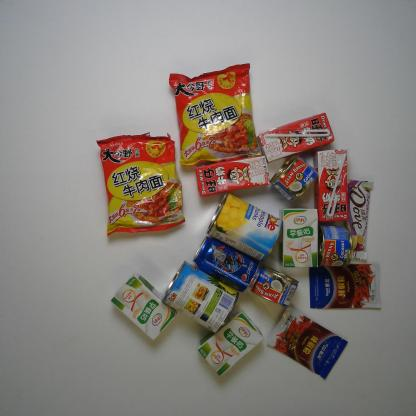Canned Food: (161, 263, 245, 339), (207, 189, 286, 267), (272, 145, 319, 203), (250, 259, 302, 308), (319, 222, 361, 271)
Chocolate: (346, 173, 379, 269)
Drink: (192, 236, 277, 293)
Instant Noodles: (89, 124, 190, 247), (161, 57, 269, 168)
Milk: (103, 264, 178, 354), (253, 104, 346, 166), (195, 309, 269, 386), (190, 137, 276, 203), (312, 142, 352, 222), (278, 206, 326, 272)
Seasoner: (266, 299, 360, 386), (308, 261, 390, 311)
